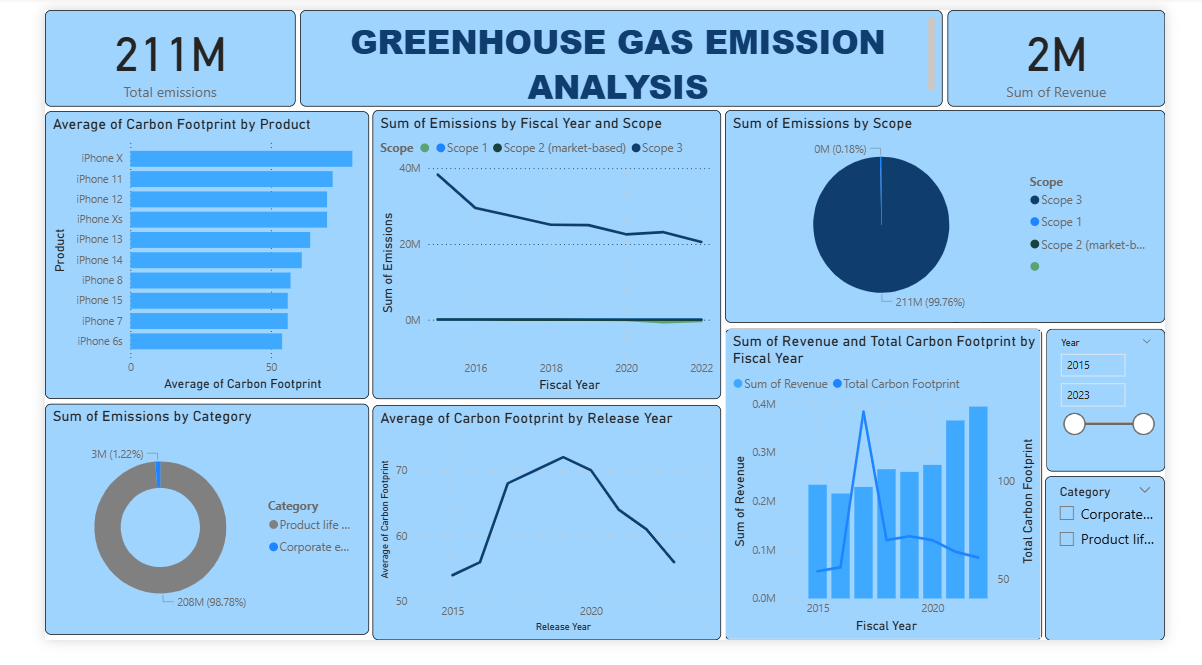

This screenshot's page, from the dashboard's own definition file:
{"tool":"powerbi","page":{"name":"Dashboard","canvas":[1280,720],"ordinal":5},"visuals":[{"type":"lineStackedColumnComboChart","fields":{"Category":["normalizing_factors.Fiscal Year"],"Y":["Sum(normalizing_factors.Revenue)"],"Y2":["Calendar.Total Carbon Footprint"]},"box":[776.5,364,362.5,356],"z":0},{"type":"clusteredBarChart","fields":{"Category":["carbon_footprint_by_product.Product"],"Y":["Avg(carbon_footprint_by_product.Carbon Footprint)"]},"box":[0,115.3,370.7,328.7],"z":1000},{"type":"lineChart","fields":{"Category":["carbon_footprint_by_product.Release Year"],"Y":["Avg(carbon_footprint_by_product.Carbon Footprint)"]},"box":[373.6,451.4,398.6,268.6],"z":2000},{"type":"donutChart","fields":{"Category":["greenhouse_gas_emissions.Category"],"Y":["Sum(greenhouse_gas_emissions.Emissions)"]},"box":[0,450.7,370,264],"z":3000},{"type":"lineChart","fields":{"Category":["greenhouse_gas_emissions.Fiscal Year"],"Y":["Sum(greenhouse_gas_emissions.Emissions)"],"Series":["greenhouse_gas_emissions.Scope"]},"box":[374,114.7,398,330.7],"z":4000},{"type":"pieChart","fields":{"Category":["greenhouse_gas_emissions.Scope"],"Y":["Sum(greenhouse_gas_emissions.Emissions)"]},"box":[776.5,114.7,503.5,243.5],"z":5000},{"type":"textbox","box":[292,0,734.5,110.5],"z":6000},{"type":"slicer","fields":{"Values":["greenhouse_gas_emissions.Category"]},"box":[1143.5,532.4,136.5,187.6],"z":7000},{"type":"slicer","fields":{"Values":["Calendar.Year"]},"box":[1144,364,136,163.5],"z":8000},{"type":"card","fields":{"Values":["Calendar.Total emissions"]},"box":[0,0,286.2,110.3],"z":9000},{"type":"card","fields":{"Values":["Sum(normalizing_factors.Revenue)"]},"box":[1031,0,249,110.5],"z":10000}]}

Visuals, with their boxes in screenshot pixels (x1, y1, x2, y2), scaled from the page's 1280x720 canvas onto the 1202x665 screenshot:
lineStackedColumnComboChart - normalizing_factors.Fiscal Year x Sum(normalizing_factors.Revenue): (left=729, top=336, right=1070, bottom=664)
clusteredBarChart - carbon_footprint_by_product.Product x Avg(carbon_footprint_by_product.Carbon Footprint): (left=0, top=106, right=348, bottom=410)
lineChart - carbon_footprint_by_product.Release Year x Avg(carbon_footprint_by_product.Carbon Footprint): (left=351, top=417, right=725, bottom=664)
donutChart - greenhouse_gas_emissions.Category x Sum(greenhouse_gas_emissions.Emissions): (left=0, top=416, right=347, bottom=660)
lineChart - greenhouse_gas_emissions.Fiscal Year x Sum(greenhouse_gas_emissions.Emissions): (left=351, top=106, right=725, bottom=411)
pieChart - greenhouse_gas_emissions.Scope x Sum(greenhouse_gas_emissions.Emissions): (left=729, top=106, right=1201, bottom=331)
textbox: (left=274, top=0, right=964, bottom=102)
slicer - greenhouse_gas_emissions.Category: (left=1074, top=492, right=1201, bottom=664)
slicer - Calendar.Year: (left=1074, top=336, right=1201, bottom=487)
card - Calendar.Total emissions: (left=0, top=0, right=269, bottom=102)
card - Sum(normalizing_factors.Revenue): (left=968, top=0, right=1201, bottom=102)
